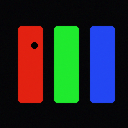0 point: (31, 42, 37, 48)
